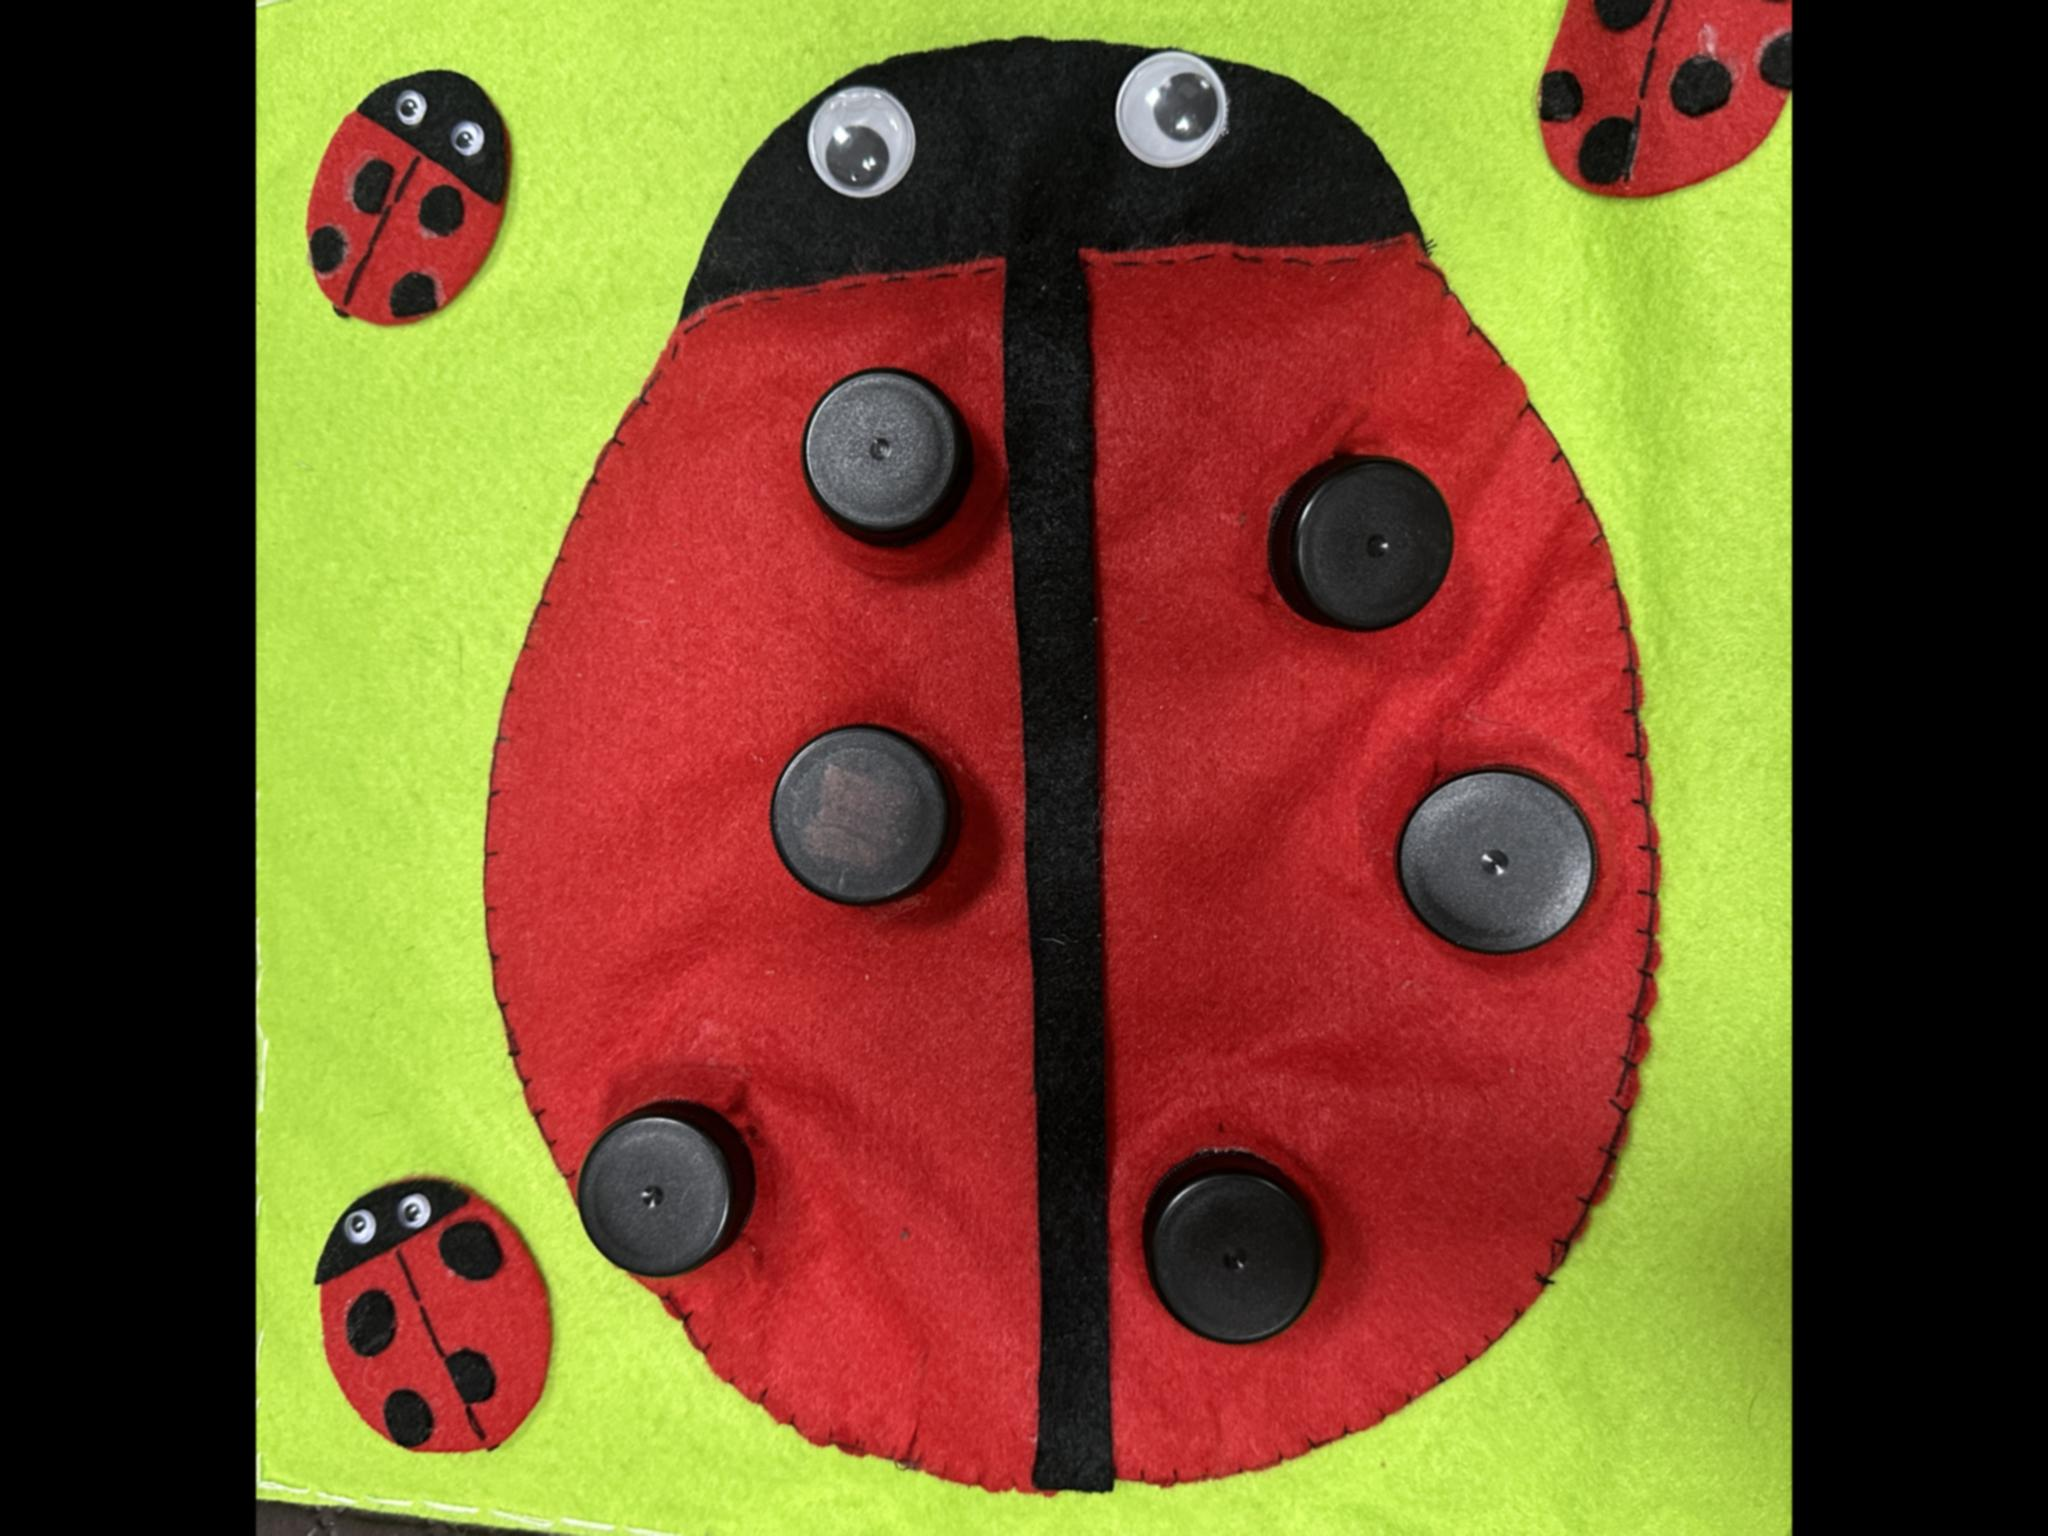cap_ok: (1101, 1123, 1390, 1399), (1358, 728, 1642, 1004), (1232, 405, 1514, 681), (750, 697, 990, 942), (542, 1073, 784, 1307), (784, 352, 1001, 592)
